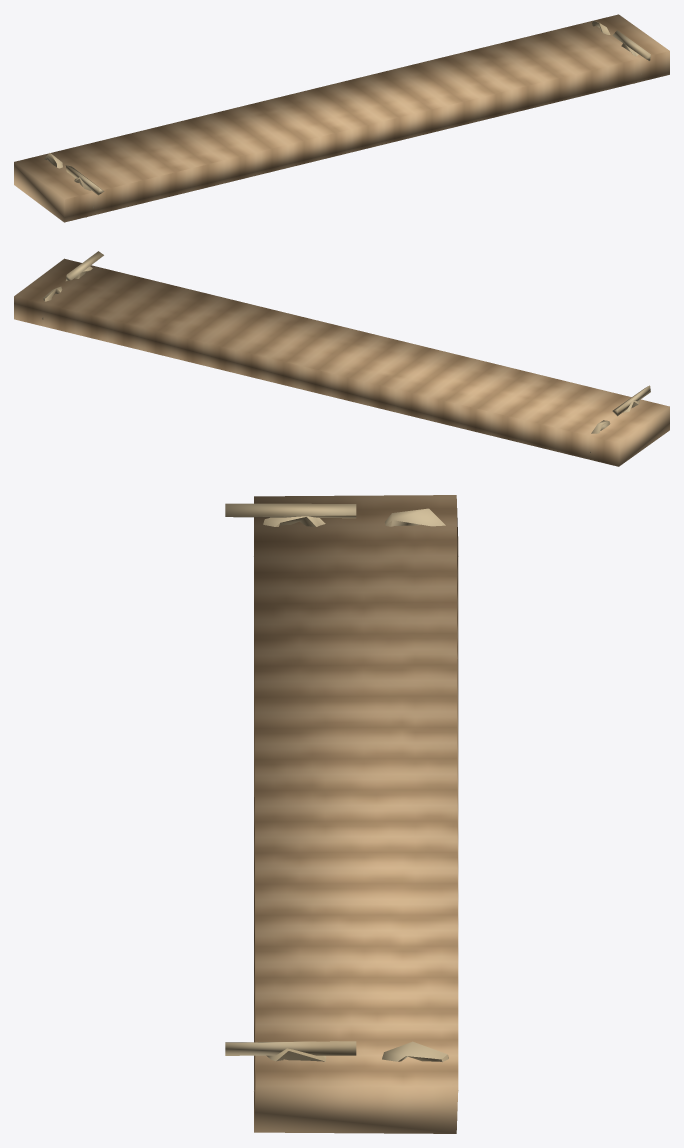
File: bridge_plank_lod1.gltf
The picture shows the model from 3 angles, top to bottom: view 1: azimuth 30°, elevation 25°; view 2: azimuth 150°, elevation 25°; view 3: azimuth 270°, elevation 25°; orthographic projection. The views are drawn at different scales.
Parts seen in each view (by area): view 1: bridge_plank_LOD1; view 2: bridge_plank_LOD1; view 3: bridge_plank_LOD1.
Boxes of the visible parts, bbox=[...] form: bridge_plank_LOD1: bbox=[14, 14, 669, 222]; bridge_plank_LOD1: bbox=[14, 251, 669, 466]; bridge_plank_LOD1: bbox=[225, 495, 458, 1133].
Bounding box in the file's own units: 1.99 × 0.1266 × 0.3317.
Materials: 1 (1 with a texture image).
